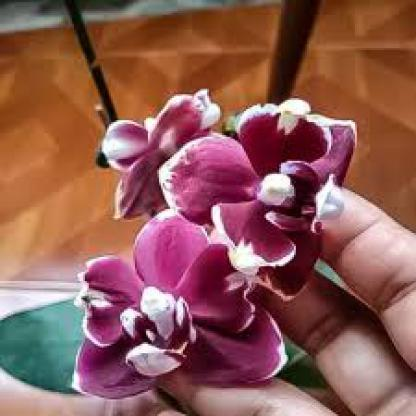ANGGREK: (64, 73, 382, 397)
